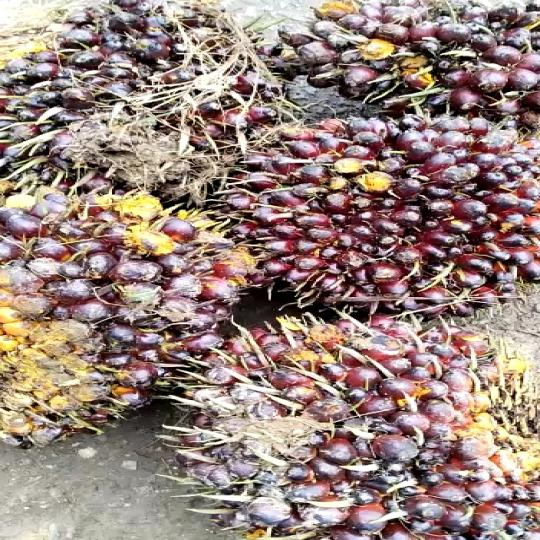kurang masak: (176, 320, 540, 540), (219, 112, 540, 328), (0, 0, 287, 189), (0, 177, 215, 426)
